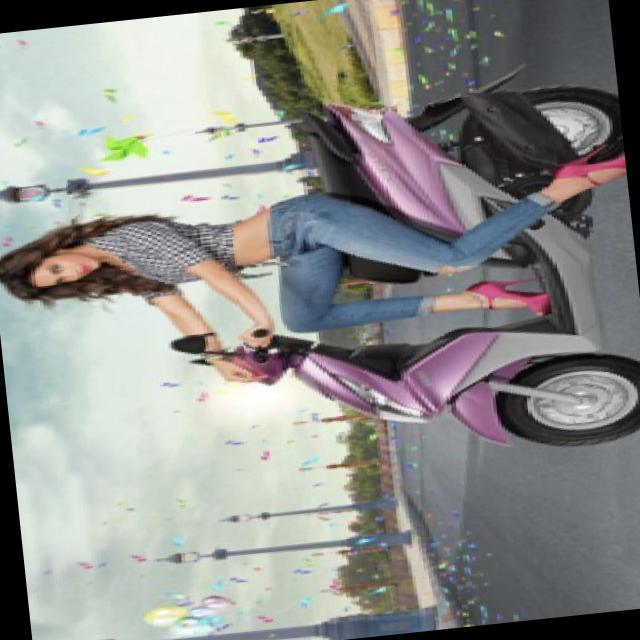bareface: (0, 231, 119, 306)
